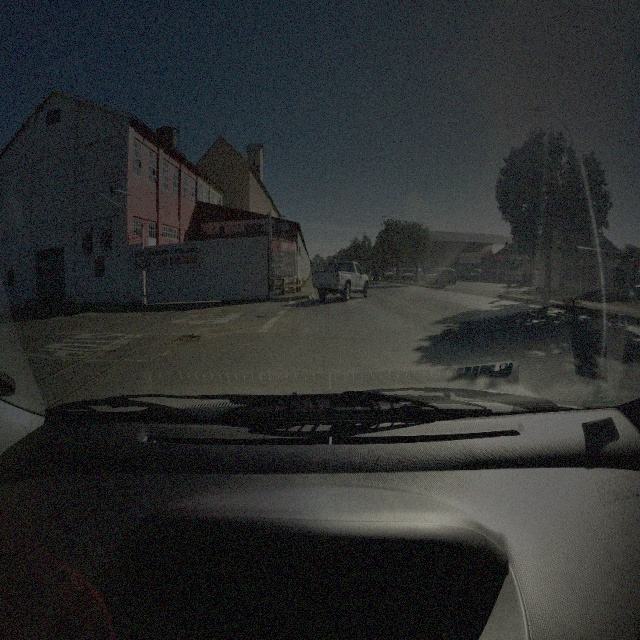pothole: (171, 333, 203, 347), (254, 312, 268, 319)
